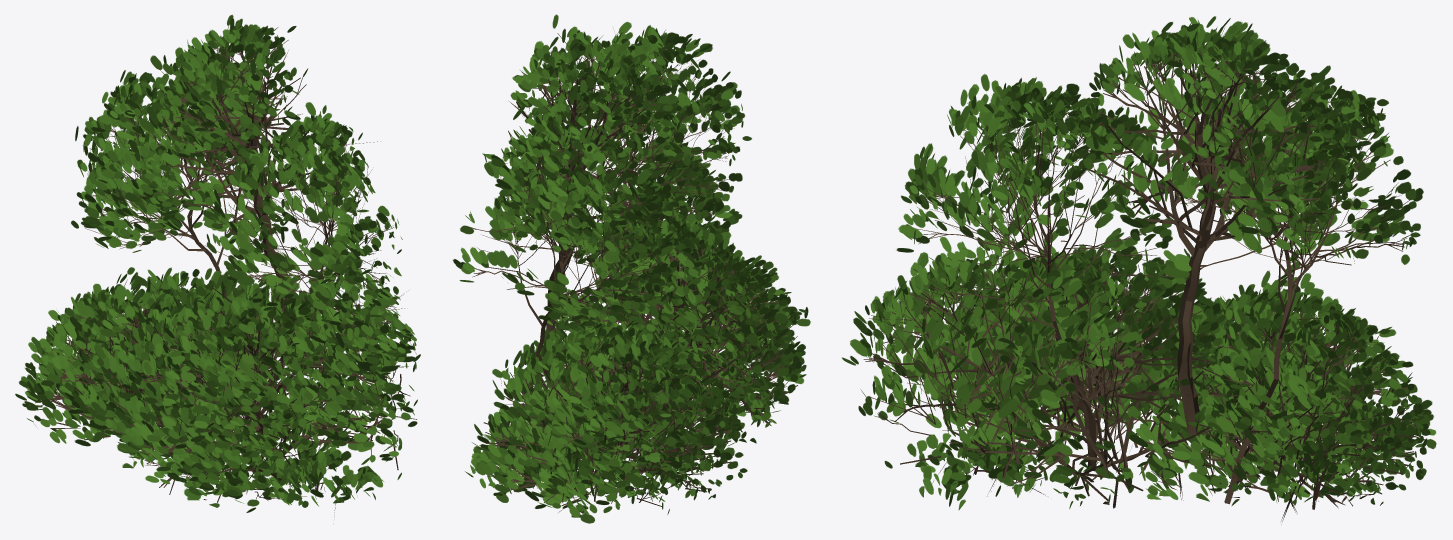
3 views of the same model, side by side, from view 1: azimuth 30°, elevation 25°; view 2: azimuth 150°, elevation 25°; view 3: azimuth 270°, elevation 25° (orthographic). The views are drawn at different scales.
Visible parts, largest first — view 1: oak 01.001_trunk_Mat.001_0.334; view 2: oak 01.001_trunk_Mat.001_0.334; view 3: oak 01.001_trunk_Mat.001_0.334.
Boxes of the visible parts, box(x1,y1,x2,y2) form: oak 01.001_trunk_Mat.001_0.334: box(15, 14, 420, 517); oak 01.001_trunk_Mat.001_0.334: box(453, 14, 810, 523); oak 01.001_trunk_Mat.001_0.334: box(842, 16, 1436, 521).
Bounding box in the file's own units: 2.26 × 3.69 × 4.01.
Materials: 2 (1 with a texture image).
